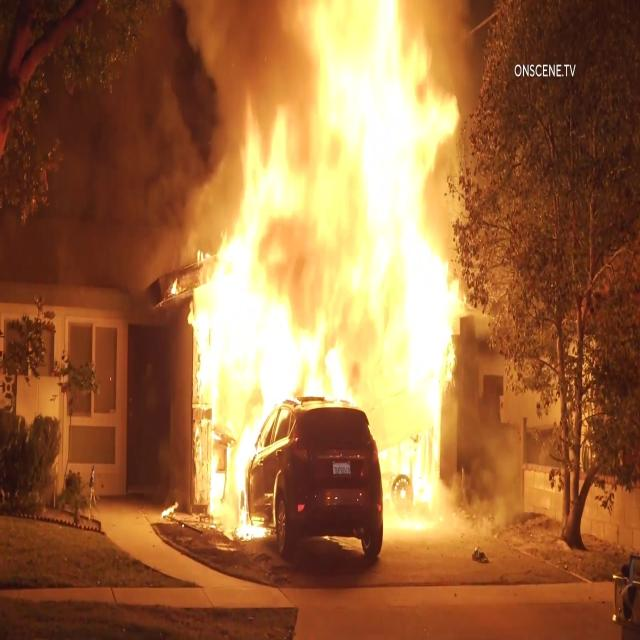fire: (223, 22, 437, 406), (192, 294, 246, 528), (372, 407, 439, 532)
smoke: (67, 94, 216, 241), (148, 8, 224, 86)
